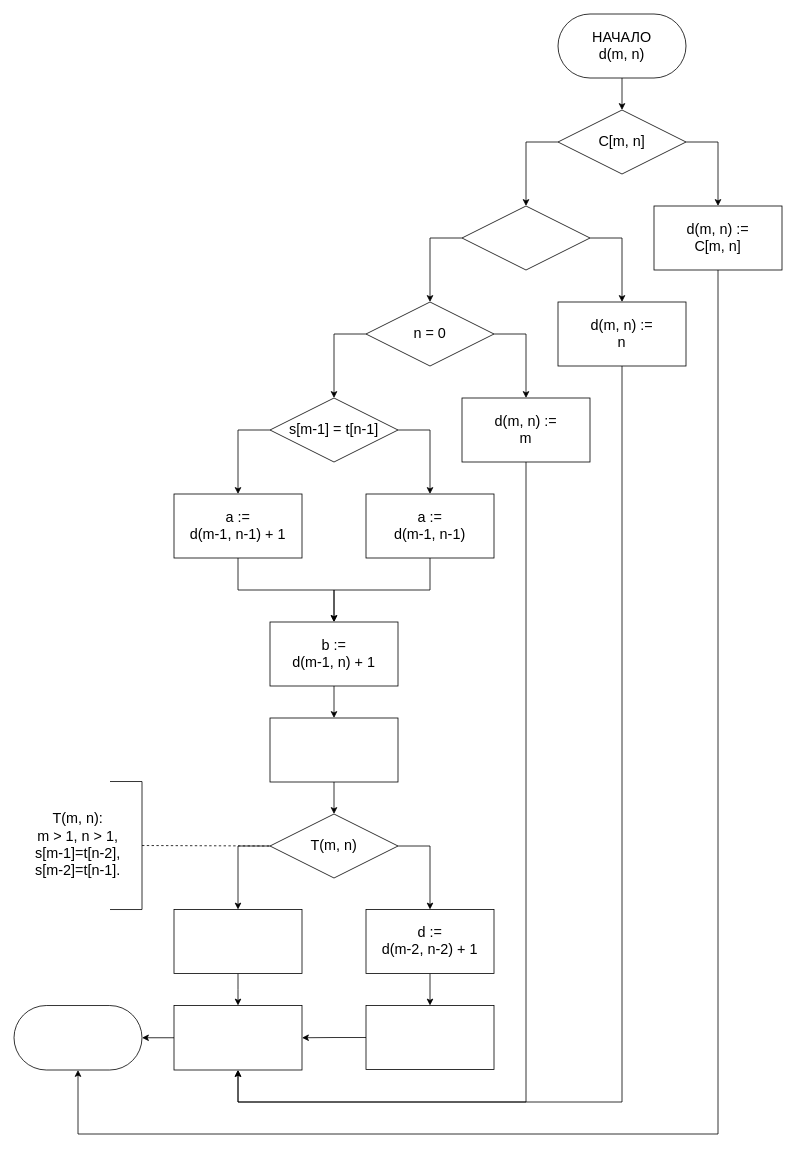
Some shapes in this 796 by 1154 pixel diagram are drawn without their labels. The box of each missing label's shape, as (x1, y1, x2, y2) in pixels:
c := d(m, n-1) + 1: (269, 717, 398, 782)
C[m, n] := d(m, n): (173, 1005, 302, 1070)
d(m, n) := min{a, b, c, d}: (365, 1005, 494, 1070)
d(m, n) := min{a, b, c}: (173, 909, 302, 974)
m = 0: (461, 205, 590, 270)
КОНЕЦ: (13, 1005, 142, 1070)
